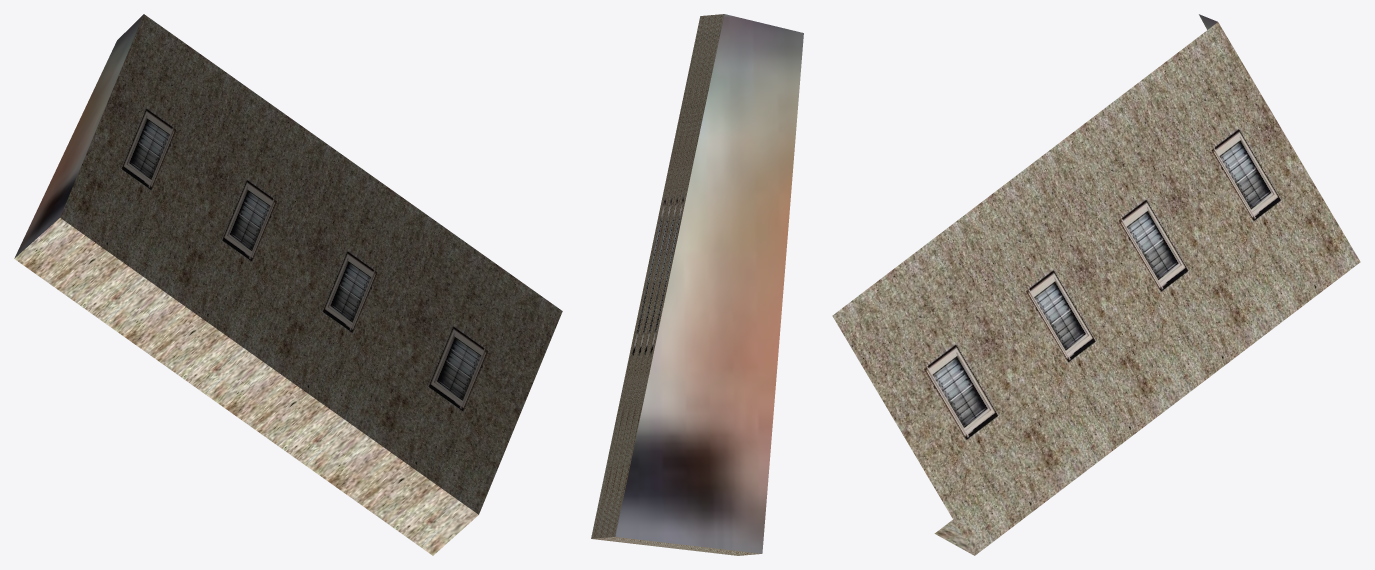
3 renders of one model, left to right at view 1: azimuth 30°, elevation 25°; view 2: azimuth 150°, elevation 25°; view 3: azimuth 270°, elevation 25°, orthographic. The views are drawn at different scales.
Size of the model in its own units: 7.61 by 11.6 by 12.45.
Materials: 2 (2 with a texture image).
